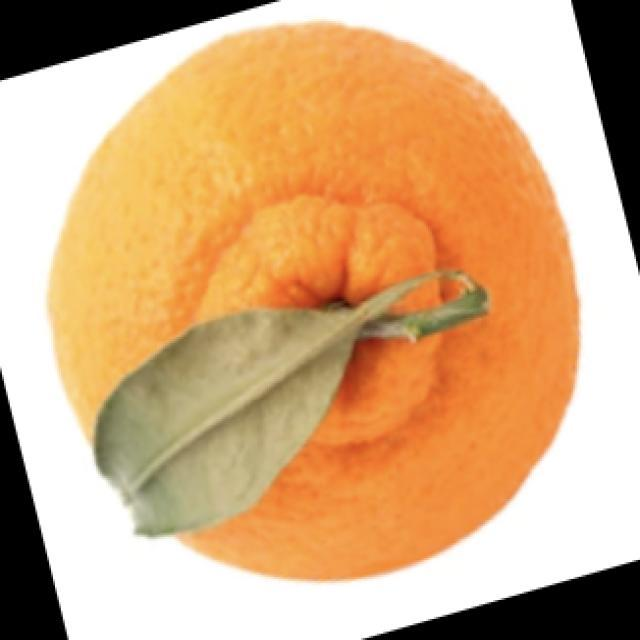matang: (49, 24, 578, 579)
